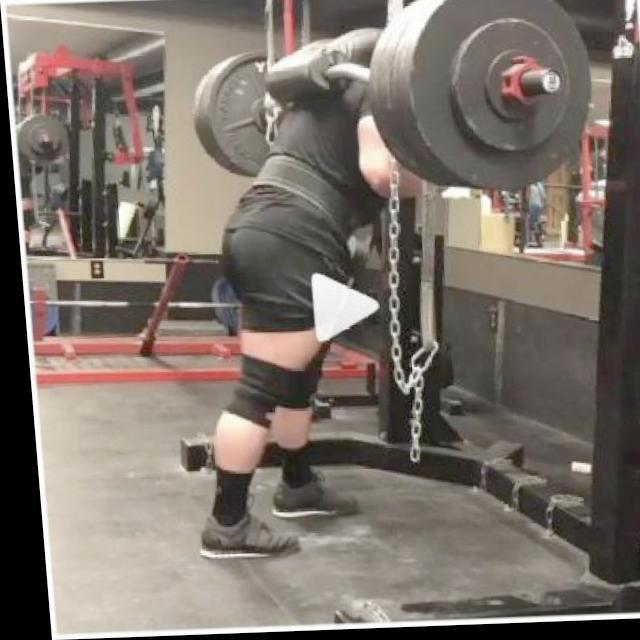barbell: (398, 1, 604, 203), (38, 133, 53, 145)
